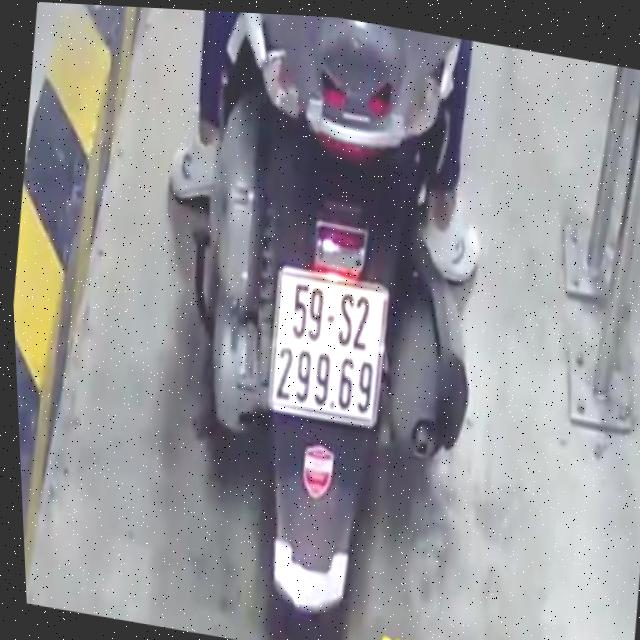motorcycle: (143, 7, 525, 640)
plate: (253, 255, 396, 431)
